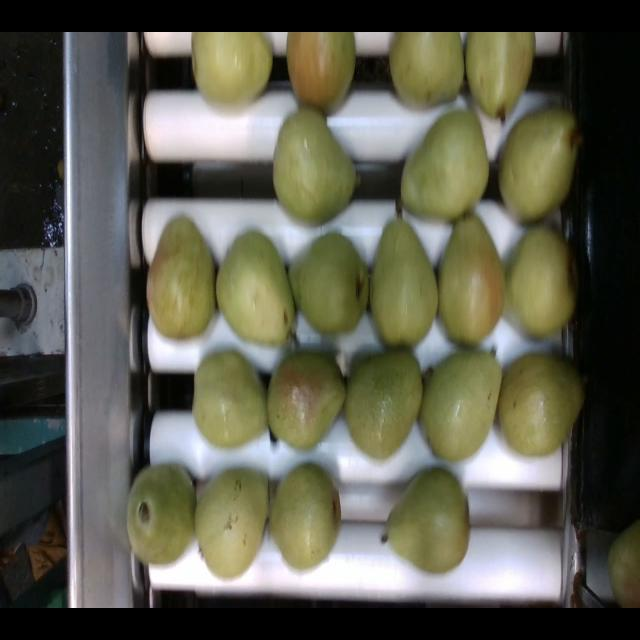pears: (497, 108, 583, 229), (272, 108, 359, 226), (401, 111, 490, 225), (188, 470, 275, 586), (263, 346, 348, 459), (439, 215, 508, 352), (370, 219, 440, 353), (496, 354, 584, 460), (384, 471, 471, 578), (216, 233, 295, 347), (287, 233, 370, 340), (147, 219, 218, 343), (422, 353, 501, 464), (345, 352, 423, 464), (190, 350, 269, 454), (508, 226, 579, 341), (270, 467, 341, 574), (126, 464, 197, 570), (191, 33, 279, 114), (285, 32, 357, 127), (388, 32, 467, 111), (465, 34, 535, 117)
